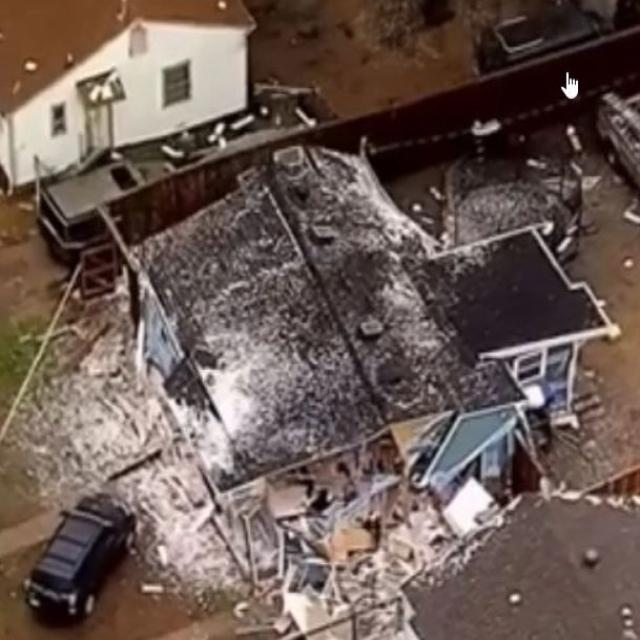collapsed_building: (127, 151, 514, 588)
